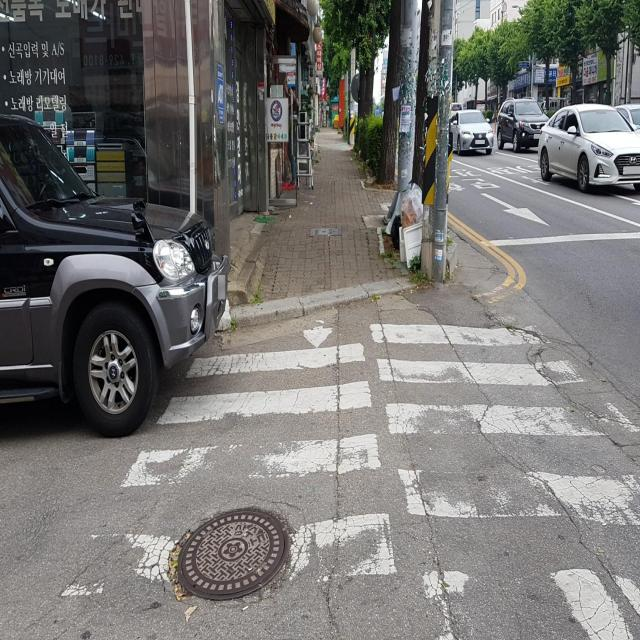횡단보도: (58, 316, 640, 639)
